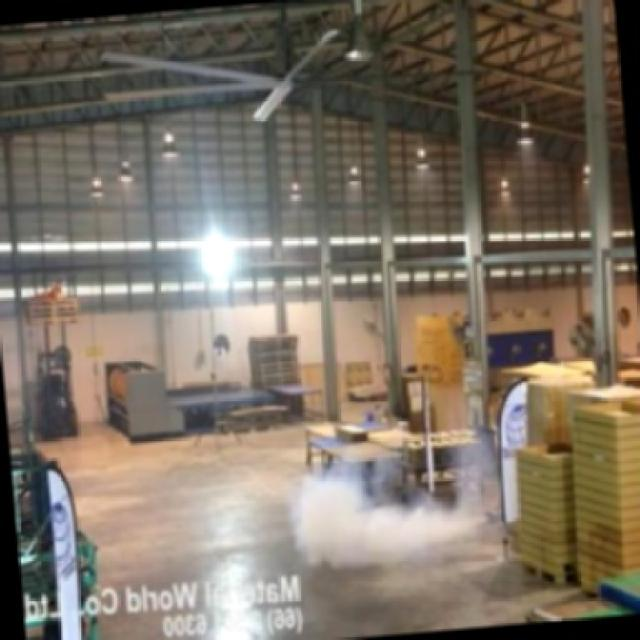smoke: (278, 401, 513, 579)
